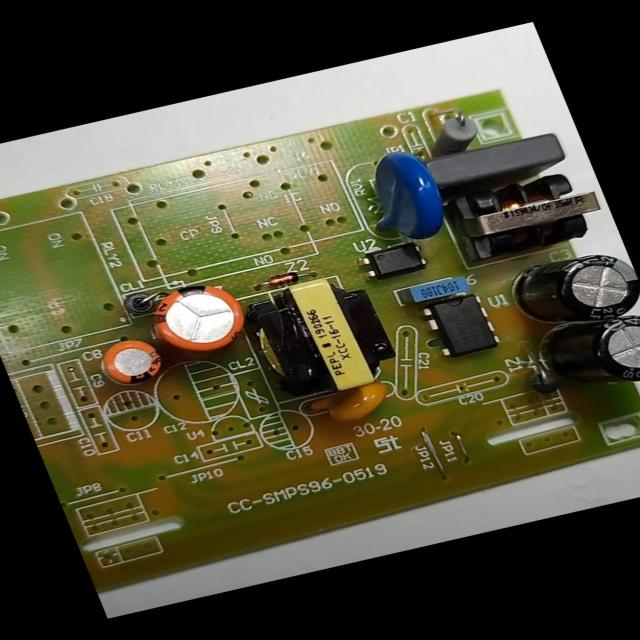Cap1: (136, 276, 256, 362)
Cap2: (92, 332, 170, 390)
Cap3: (504, 244, 640, 335)
Cap4: (538, 309, 639, 400)
MOSFET: (417, 290, 504, 360)
Mov: (340, 144, 454, 250)
Resistor: (416, 109, 486, 158)
Transformer: (248, 268, 406, 402), (443, 160, 617, 262)
